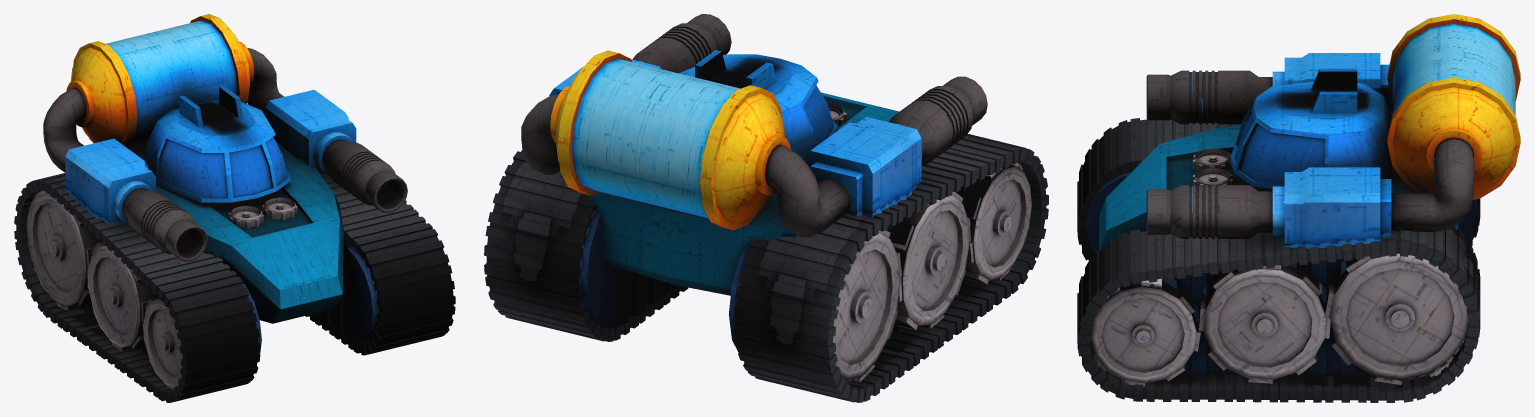
File: PlayerB16.obj
3 renders of one model, left to right at view 1: azimuth 30°, elevation 25°; view 2: azimuth 150°, elevation 25°; view 3: azimuth 270°, elevation 25°, orthographic. The views are drawn at different scales.
Visible parts, largest first — view 1: Object001, Box042, Object004, Object003, Object002; view 2: Object001, Box042, Object003, Object004, Object002; view 3: Object001, Box042, Object004, Object003, Object002.
Boxes of the visible parts, x1,y1,x2,y2 form: Object001: (43, 14, 407, 356); Box042: (14, 173, 455, 402); Object004: (27, 190, 100, 310); Object003: (87, 242, 154, 350); Object002: (142, 296, 182, 389); Object001: (521, 14, 987, 352); Box042: (484, 134, 1048, 402); Object003: (889, 191, 970, 330); Object004: (833, 230, 901, 381); Object002: (959, 163, 1031, 284); Object001: (1085, 14, 1520, 374); Box042: (1077, 118, 1480, 402); Object004: (1325, 253, 1469, 384); Object003: (1199, 264, 1330, 383); Object002: (1089, 278, 1200, 386).
Size of the model in its own units: 121 by 101 by 147.
2 materials, 2 textured.
